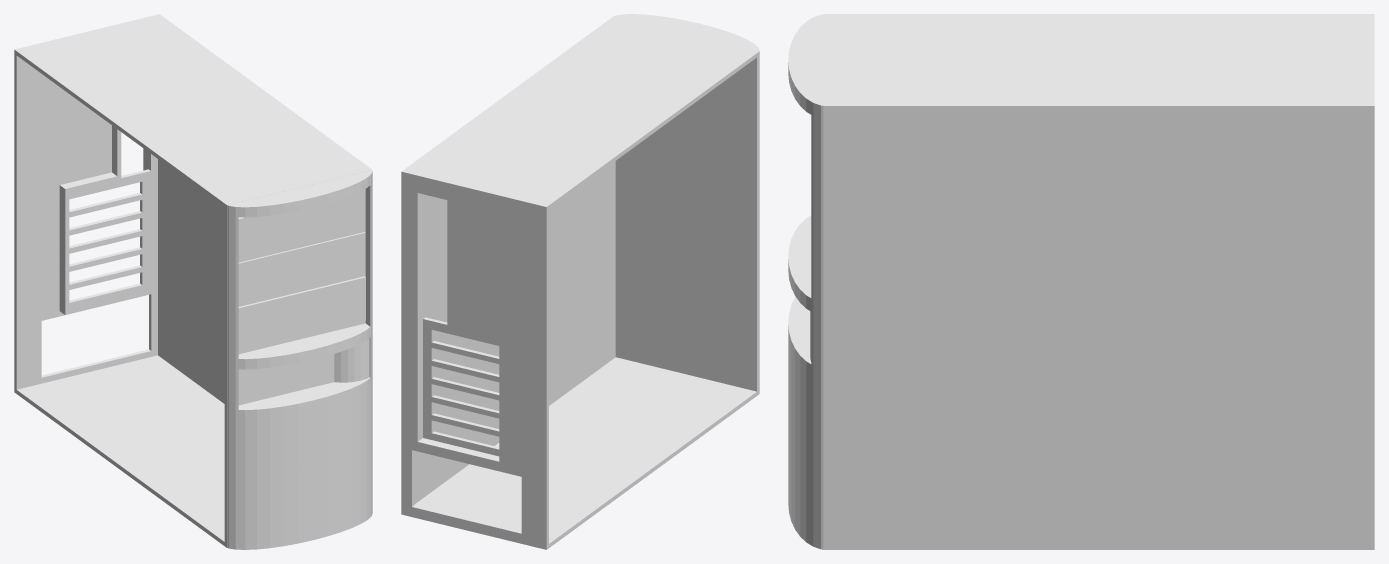
File: RetroCase_Walter.fbx
3 renders of one model, left to right at view 1: azimuth 30°, elevation 25°; view 2: azimuth 150°, elevation 25°; view 3: azimuth 270°, elevation 25°, orthographic. The views are drawn at different scales.
Visible parts, largest first — view 1: Case_ATX_Black_; view 2: Case_ATX_Black_; view 3: Case_ATX_Black_.
Boxes of the visible parts, <box> form: Case_ATX_Black_: <box>14,14,372,549</box>; Case_ATX_Black_: <box>401,14,759,549</box>; Case_ATX_Black_: <box>788,14,1374,549</box>.
Bounding box in the file's own units: 177 × 400 × 479.
Materials: 1 (1 with a texture image).
